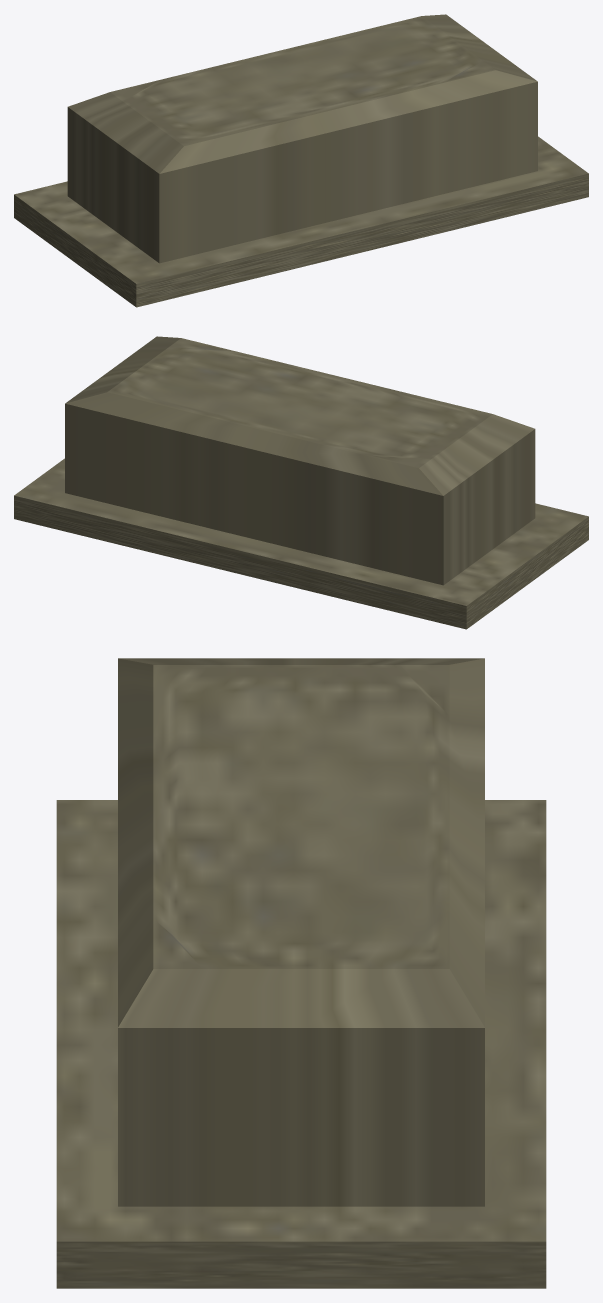
The model's file is Acosta_I_TombstoneWall4.fbx.
3 renders of one model, top to bottom at view 1: azimuth 30°, elevation 25°; view 2: azimuth 150°, elevation 25°; view 3: azimuth 270°, elevation 25°, orthographic. The views are drawn at different scales.
Parts seen in each view (by area): view 1: Cube; view 2: Cube; view 3: Cube.
Part boxes in pixels (box(x1,y1,x2,y2)): Cube: box(14, 14, 588, 307); Cube: box(14, 336, 588, 629); Cube: box(56, 658, 546, 1288).
Size of the model in its own units: 2225 by 592 by 1042.
1 material, 1 textured.
